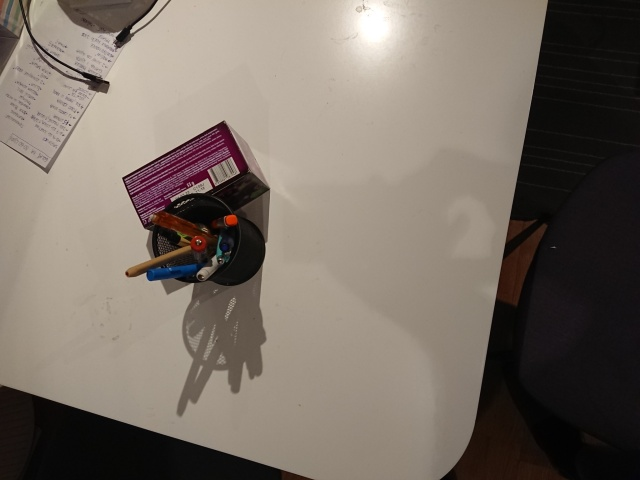Franck Black Currant Tea 60g: (120, 118, 272, 243)
